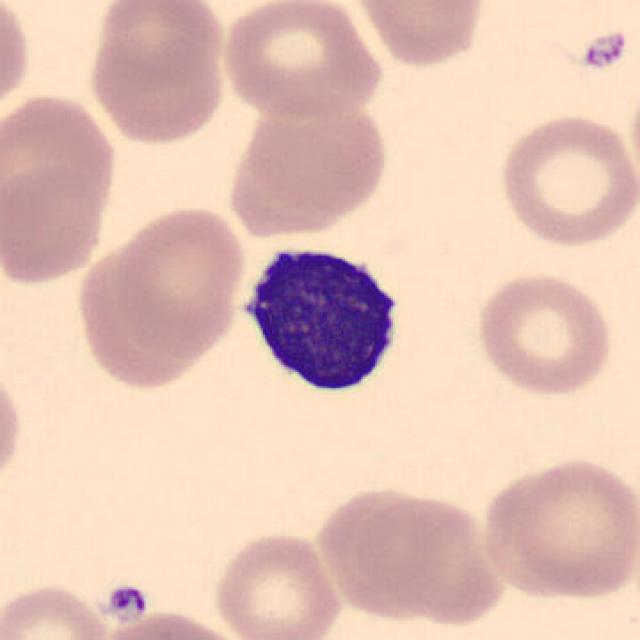Lymphocyte: (228, 231, 416, 404)
Platelets: (576, 27, 631, 72), (103, 578, 149, 622)
RBC: (86, 201, 249, 391), (325, 488, 512, 632), (475, 453, 638, 605), (224, 92, 393, 238), (0, 88, 123, 286), (84, 0, 231, 148), (217, 0, 386, 120), (494, 110, 638, 250), (471, 268, 617, 398), (210, 527, 345, 640), (350, 0, 491, 71), (2, 578, 112, 640), (90, 606, 252, 640), (0, 353, 27, 499), (0, 0, 32, 122)
